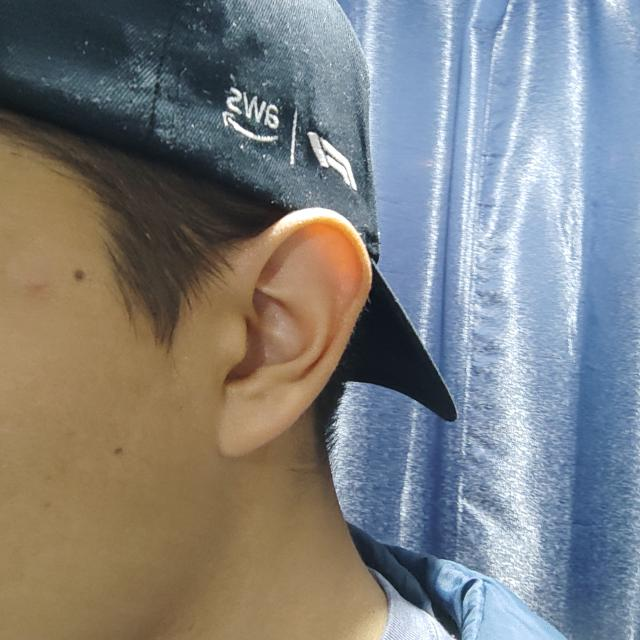ear: (216, 208, 371, 458)
